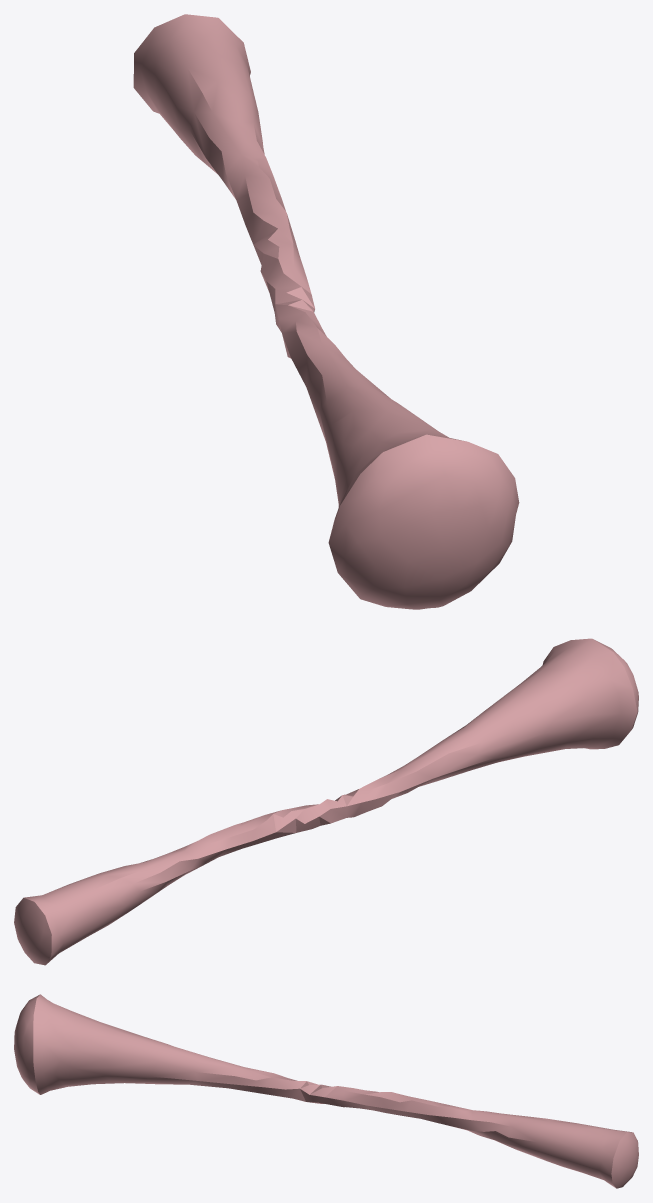
Rendered from fma58841_mm2184m.glb.
The picture shows the model from 3 angles, top to bottom: view 1: azimuth 30°, elevation 25°; view 2: azimuth 150°, elevation 25°; view 3: azimuth 270°, elevation 25°; orthographic projection. The views are drawn at different scales.
Visible parts, largest first — view 1: FMA58841_MM2184M; view 2: FMA58841_MM2184M; view 3: FMA58841_MM2184M.
Boxes of the visible parts, box(x1,y1,x2,y2) form: FMA58841_MM2184M: box(133, 14, 519, 609); FMA58841_MM2184M: box(14, 638, 638, 965); FMA58841_MM2184M: box(14, 994, 638, 1188).
Size of the model in its own units: 0.00668 by 0.00268 by 0.0149.
